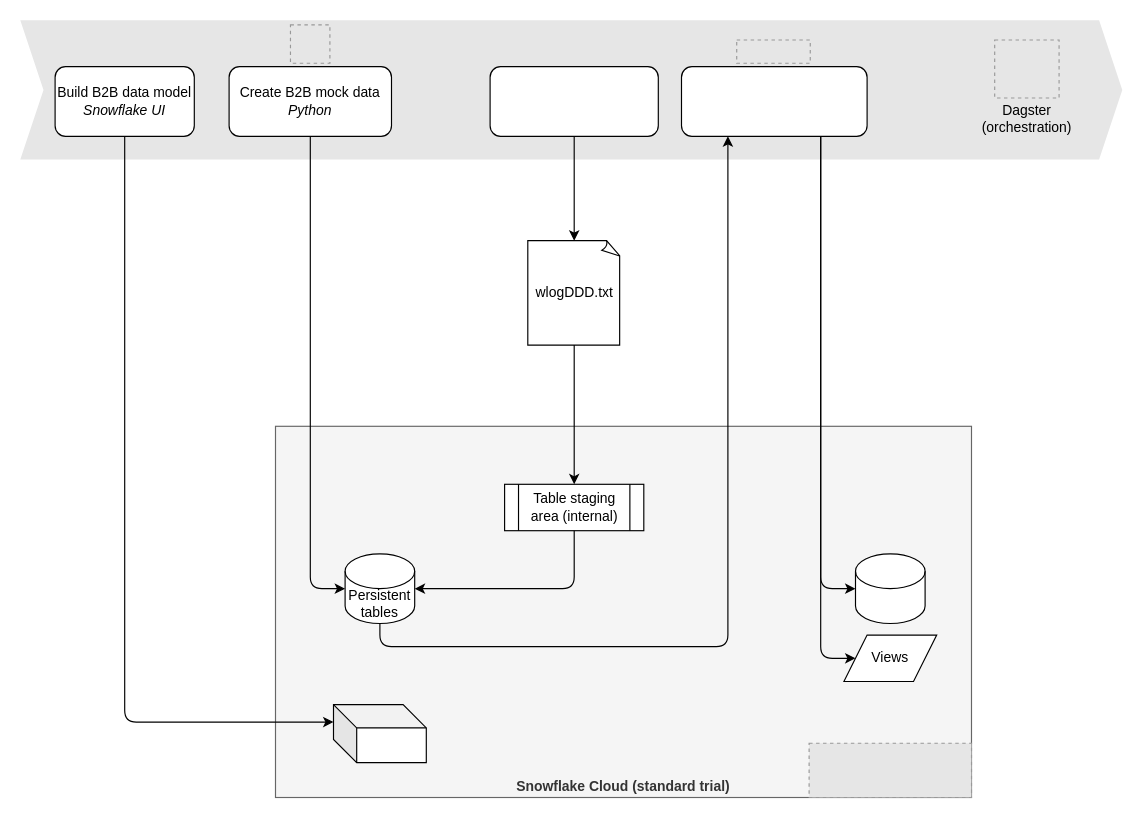
Image size: 1141x818. Some labels were removed from this diagram. Grey dashed boxes stand in for pictures. The centre of each missing label's shape, as x and y in pixels:
"Create weblogs mock data Python, SnowSQL, Snowflake UI" goes at point 573,101.
"Metadata store" goes at point 379,733.
"Transform & test data Create staging and marts DBT" goes at point 773,101.
"Transient tables" goes at point 889,588.
